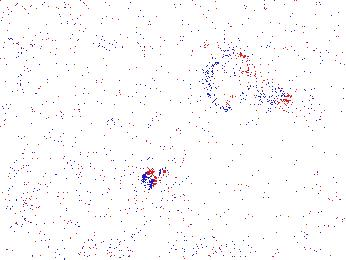flame jellyfish: (201, 52, 292, 113), (131, 168, 187, 223), (1, 169, 36, 233)
